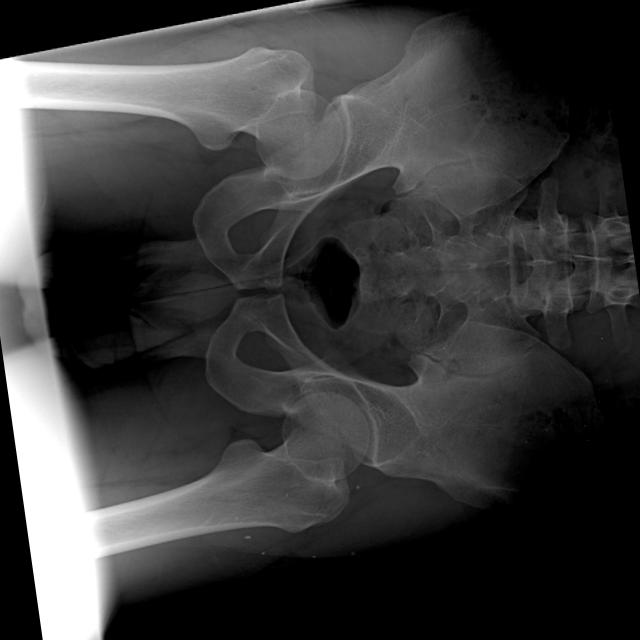normal-left: (124, 392, 369, 549)
normal-right: (100, 46, 343, 181)
